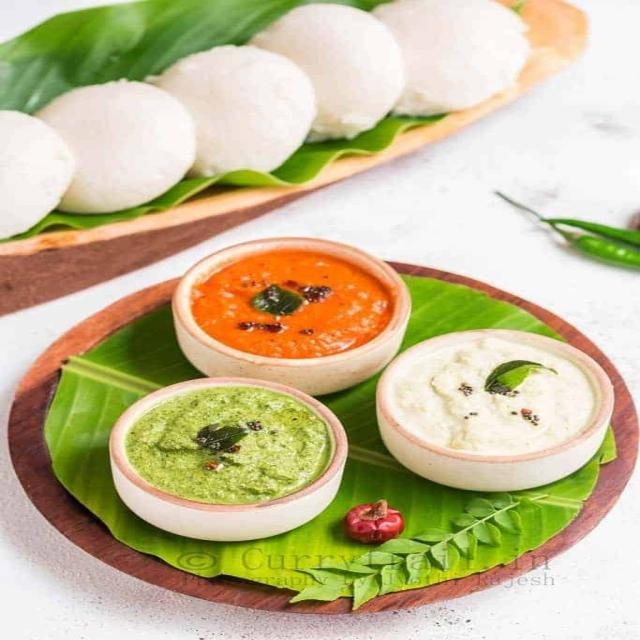chutney: (384, 330, 615, 470)
idly: (35, 81, 199, 211), (152, 46, 319, 172), (250, 4, 407, 136), (370, 0, 530, 113), (0, 111, 77, 238)
puthina chutney: (113, 373, 353, 520)
